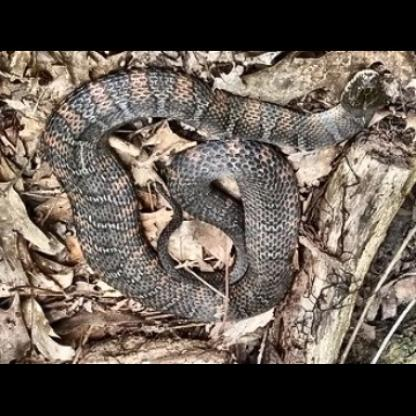Snake: (7, 58, 405, 341)
